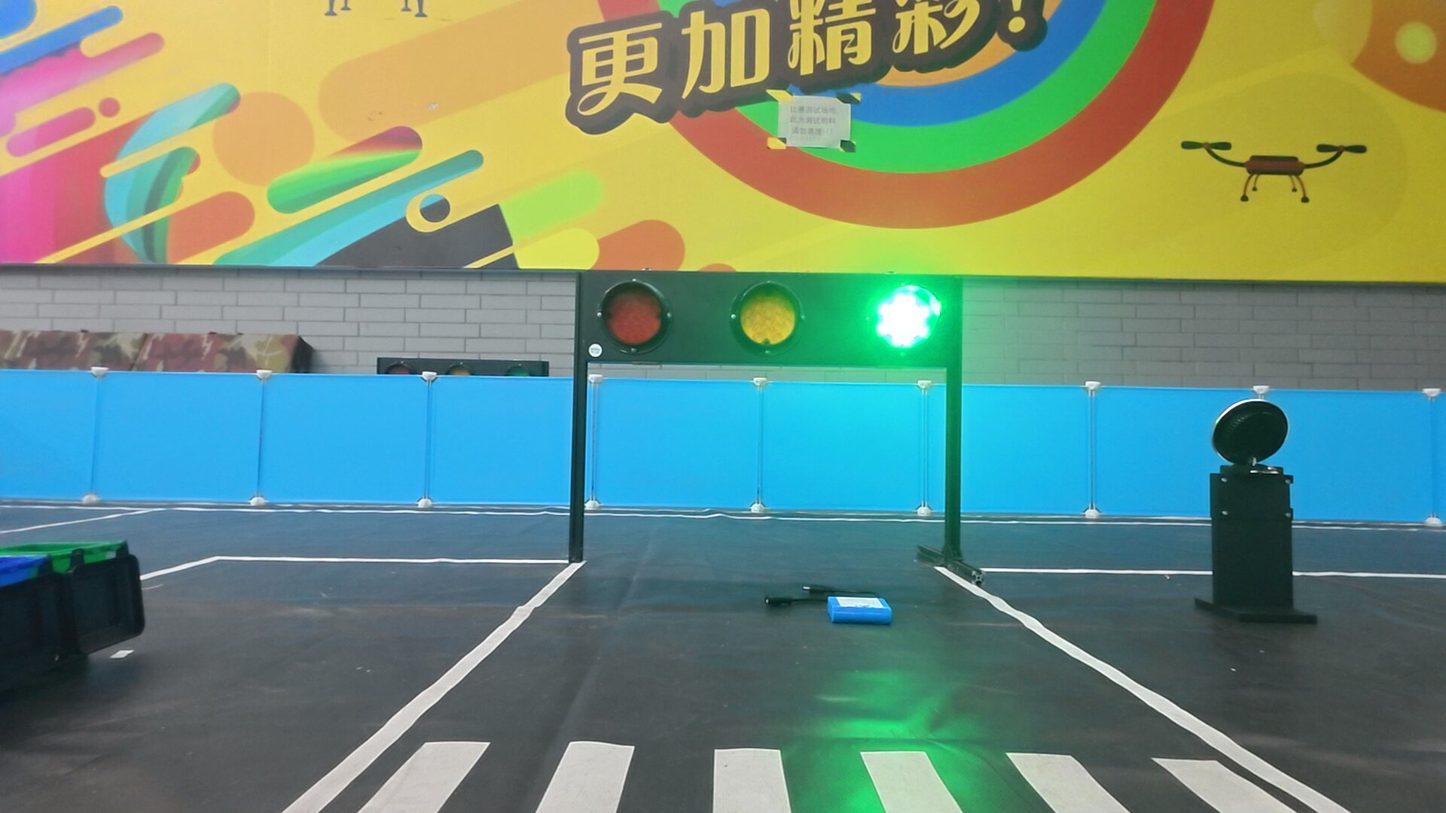go: (868, 282, 945, 358)
